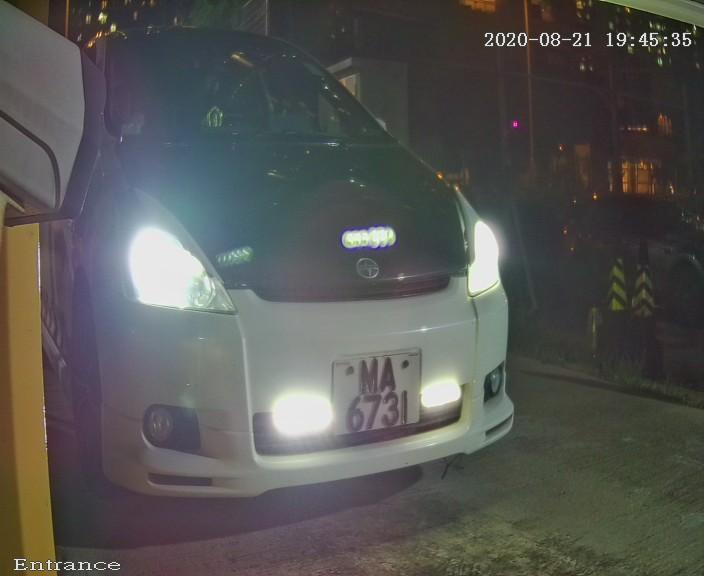Car: (41, 6, 576, 553)
License Plate: (315, 338, 437, 450)
